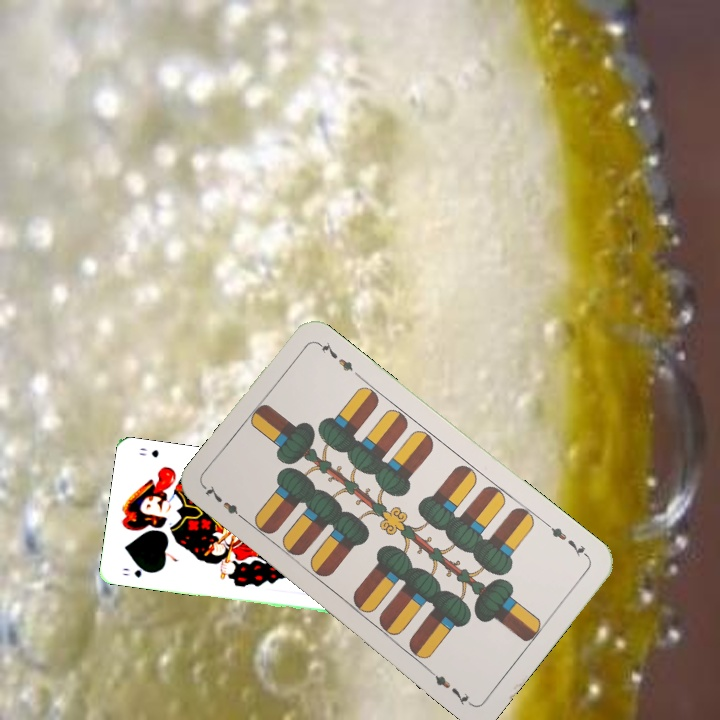E7: (201, 481, 250, 525), (542, 519, 592, 561)
GO: (119, 563, 155, 580)
